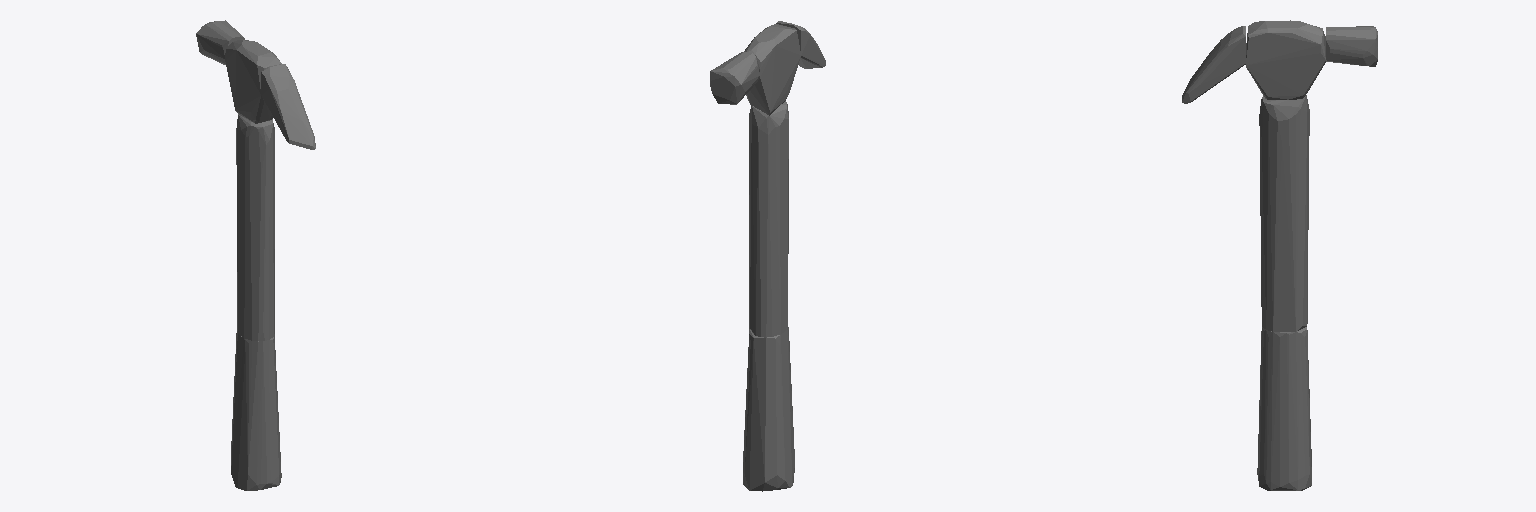
URDF robot description (hammer_006):
<?xml version="1.0" ?>
<robot name="hammer_006">
  <material name="color">
    <color rgba=".5 .5 .5 1"/>
  </material>

  <link name="base_link">
    <contact>
      <lateral_friction value="1.0"/>
      <rolling_friction value="0.001"/>
      <spinning_friction value="0.001"/>
      <inertia_scaling value="1.0"/>
    </contact>
    <inertial>
      <origin rpy="0 0 0" xyz="2.08311e-05 0.00495256 0.0168071"/>
       <mass value="0.1"/>
       <inertia ixx="1" ixy="0" ixz="0" iyy="1" iyz="0" izz="1"/>
    </inertial>

    <visual>
      <origin rpy="0 0 0" xyz="0 0 0"/>
      <geometry>
        <mesh filename="hammer_006_vhacd_0_of_5.obj" scale="1 1 1"/>
      </geometry>
      <material name="color"/>
    </visual>
    <visual>
      <origin rpy="0 0 0" xyz="0 0 0"/>
      <geometry>
        <mesh filename="hammer_006_vhacd_1_of_5.obj" scale="1 1 1"/>
      </geometry>
      <material name="color"/>
    </visual>
    <visual>
      <origin rpy="0 0 0" xyz="0 0 0"/>
      <geometry>
        <mesh filename="hammer_006_vhacd_2_of_5.obj" scale="1 1 1"/>
      </geometry>
      <material name="color"/>
    </visual>
    <visual>
      <origin rpy="0 0 0" xyz="0 0 0"/>
      <geometry>
        <mesh filename="hammer_006_vhacd_3_of_5.obj" scale="1 1 1"/>
      </geometry>
      <material name="color"/>
    </visual>
    <visual>
      <origin rpy="0 0 0" xyz="0 0 0"/>
      <geometry>
        <mesh filename="hammer_006_vhacd_4_of_5.obj" scale="1 1 1"/>
      </geometry>
      <material name="color"/>
    </visual>

    <collision>
      <origin rpy="0 0 0" xyz="0 0 0"/>
      <geometry>
        <mesh filename="hammer_006_vhacd_0_of_5.obj" scale="1 1 1"/>
      </geometry>
    </collision>
    <collision>
      <origin rpy="0 0 0" xyz="0 0 0"/>
      <geometry>
        <mesh filename="hammer_006_vhacd_1_of_5.obj" scale="1 1 1"/>
      </geometry>
    </collision>
    <collision>
      <origin rpy="0 0 0" xyz="0 0 0"/>
      <geometry>
        <mesh filename="hammer_006_vhacd_2_of_5.obj" scale="1 1 1"/>
      </geometry>
    </collision>
    <collision>
      <origin rpy="0 0 0" xyz="0 0 0"/>
      <geometry>
        <mesh filename="hammer_006_vhacd_3_of_5.obj" scale="1 1 1"/>
      </geometry>
    </collision>
    <collision>
      <origin rpy="0 0 0" xyz="0 0 0"/>
      <geometry>
        <mesh filename="hammer_006_vhacd_4_of_5.obj" scale="1 1 1"/>
      </geometry>
    </collision>

  </link>
</robot>

--- Facts derived from the render (not from the file) ---
3 views of the same robot in one strip: view 1: azimuth 30°, elevation 25°; view 2: azimuth 150°, elevation 25°; view 3: azimuth 270°, elevation 25° (orthographic).
Model hammer_006 with 1 links and 0 joints (none), rooted at base_link, posed every joint at zero.
Visible links, largest first — view 1: base_link; view 2: base_link; view 3: base_link.
Link boxes in pixels (x1=…): base_link: x1=196, y1=20, x2=315, y2=490; base_link: x1=710, y1=21, x2=825, y2=491; base_link: x1=1182, y1=20, x2=1377, y2=490.
Size in the robot's own frame: 0.0268 by 0.1047 by 0.269 metres.
Meshes: 5 distinct files referenced, 5 mesh visuals loaded (5 OBJ).